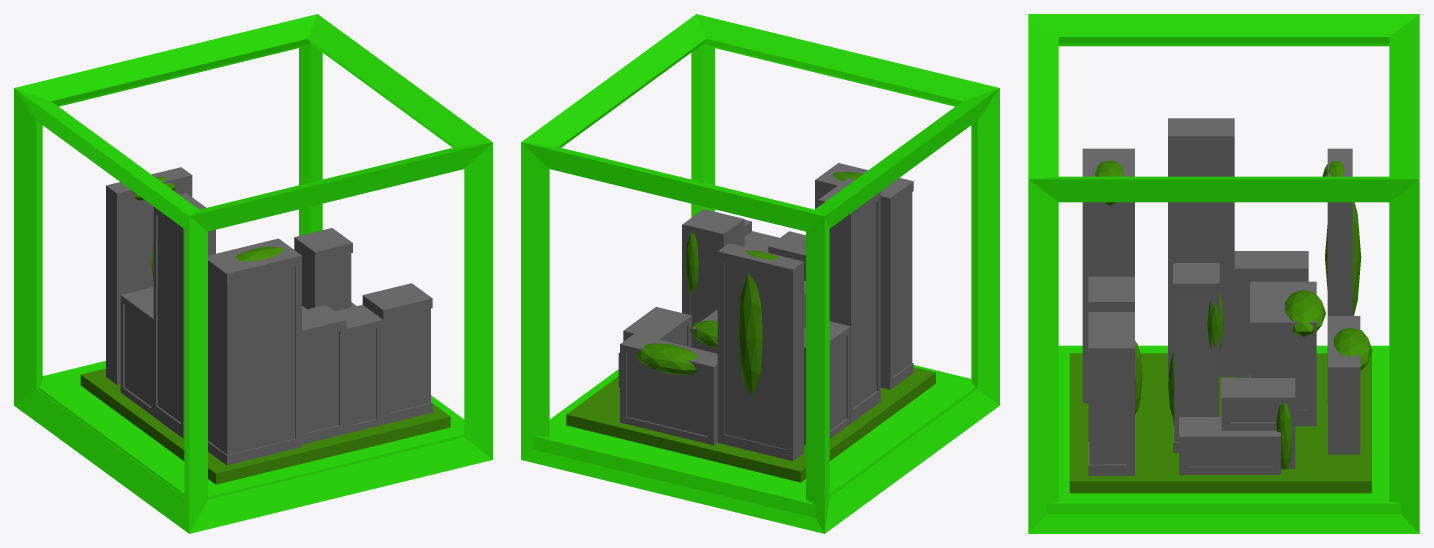
Rendered from Abandoned City Memory Cube.fbx.
3 views of the same model, side by side, from view 1: azimuth 30°, elevation 25°; view 2: azimuth 150°, elevation 25°; view 3: azimuth 270°, elevation 25° (orthographic). The views are drawn at different scales.
Parts seen in each view (by area): view 1: Cube.019, Icosphere.007, Cube.038; view 2: Cube.019, Icosphere.007, Cube.038; view 3: Icosphere.007, Cube.019, Cube.038.
Part boxes in pixels (<box>): Cube.019: <box>14,14,492,533</box>; Icosphere.007: <box>80,167,450,484</box>; Cube.038: <box>38,361,464,499</box>; Cube.019: <box>521,14,999,533</box>; Icosphere.007: <box>566,163,935,482</box>; Cube.038: <box>533,369,975,517</box>; Icosphere.007: <box>1069,118,1372,493</box>; Cube.019: <box>1028,14,1419,533</box>; Cube.038: <box>1047,347,1400,513</box>.
Size of the model in its own units: 61.71 by 61.71 by 61.71.
